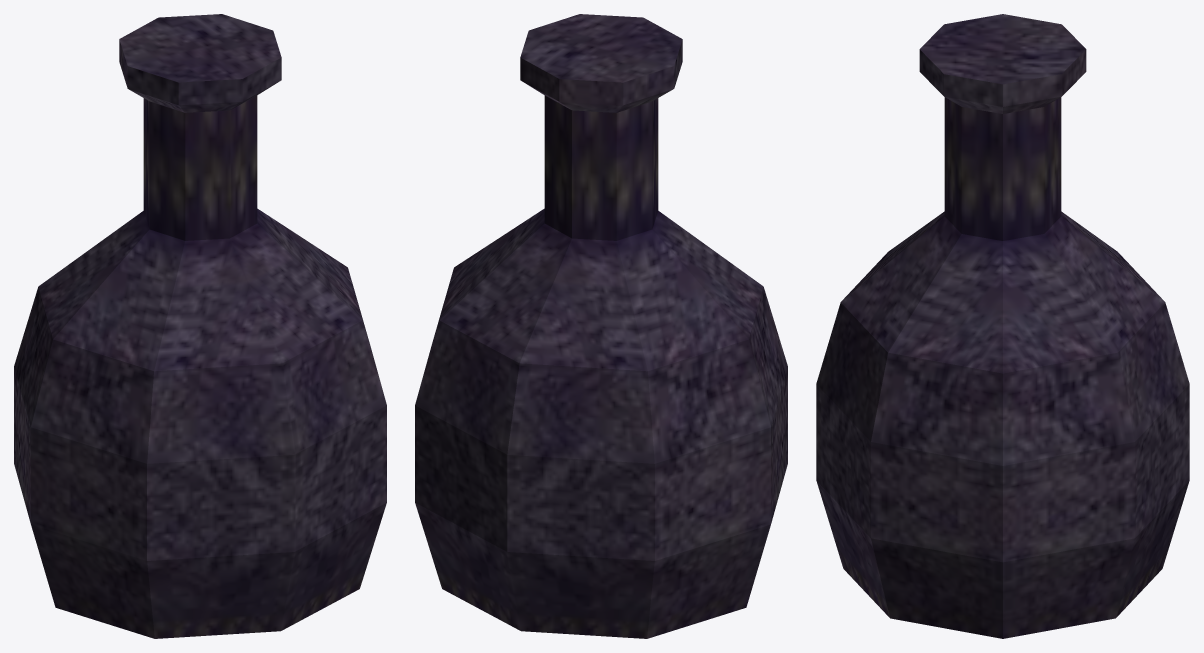
The model's file is GS_SOK_ZIELE_01_SZCZAWIK.glb.
3 views of the same model, side by side, from view 1: azimuth 30°, elevation 25°; view 2: azimuth 150°, elevation 25°; view 3: azimuth 270°, elevation 25° (orthographic).
Parts seen in each view (by area): view 1: GS_SOK_ZIELE_01_SZCZAWIK; view 2: GS_SOK_ZIELE_01_SZCZAWIK; view 3: GS_SOK_ZIELE_01_SZCZAWIK.
Boxes of the visible parts, x1,y1,x2,y2 form: GS_SOK_ZIELE_01_SZCZAWIK: (14, 14, 386, 638); GS_SOK_ZIELE_01_SZCZAWIK: (415, 14, 787, 638); GS_SOK_ZIELE_01_SZCZAWIK: (816, 14, 1189, 638).
Bounding box in the file's own units: 0.1911 × 0.2822 × 0.1838.
Materials: 1 (1 with a texture image).
